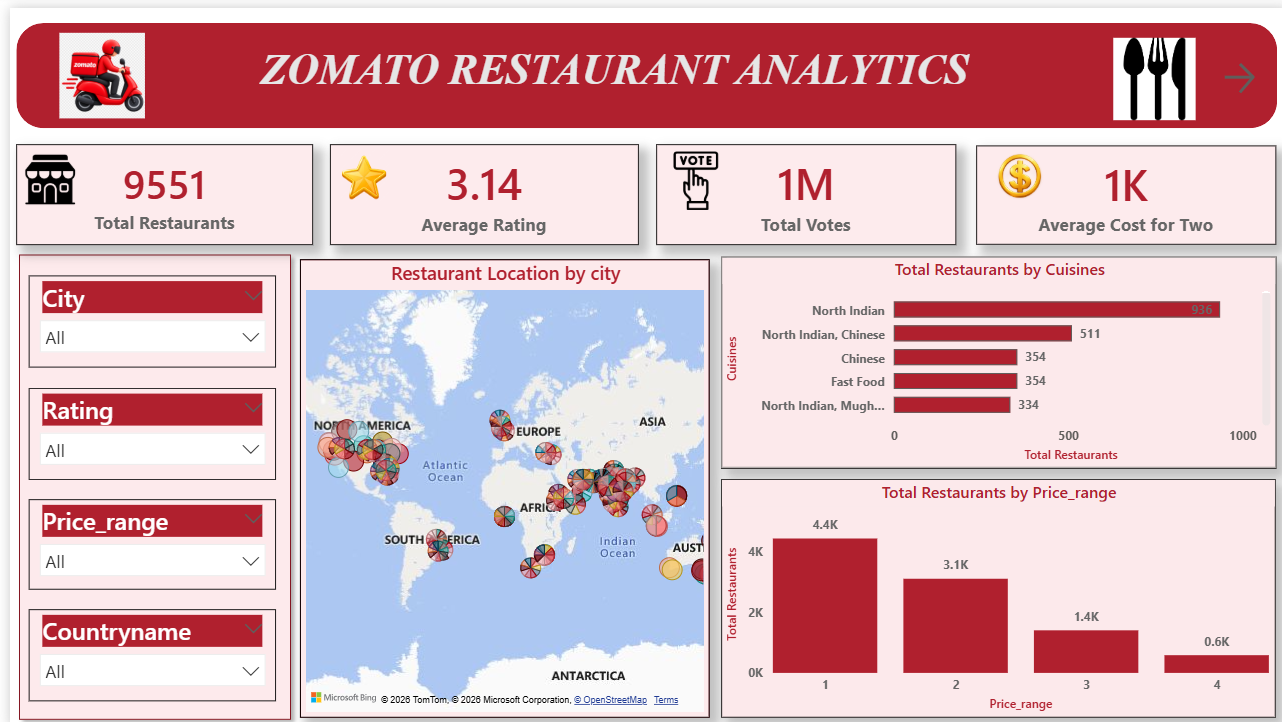

This screenshot's page, from the dashboard's own definition file:
{"tool":"powerbi","page":{"name":"Executive Overview","canvas":[1280,720],"ordinal":0},"visuals":[{"type":"shape","box":[0,238.1,290,483.3],"z":0},{"type":"shape","box":[5.8,14.4,1261,105.3],"z":1000},{"type":"card","title":"Total Restaurants","fields":{"Values":["Sheet1.Total Restaurants"]},"box":[5.8,136.9,297,100.5],"z":2000},{"type":"card","title":"Avg Rating","fields":{"Values":["Sheet1.Average Rating (Rated Only)"]},"box":[320.3,136.9,308.6,100.5],"z":3000},{"type":"card","title":"Total Votes","fields":{"Values":["Sheet1.Total Votes"]},"box":[646.4,136.9,299.9,100.5],"z":4000},{"type":"slicer","fields":{"Values":["Sheet1.City"]},"box":[18.9,267.9,247.5,91.7],"z":5000},{"type":"card","title":"Avg cost","fields":{"Values":["Sheet1.Average Cost for Two"]},"box":[966.7,137.1,300.1,99.6],"z":6000},{"type":"slicer","fields":{"Values":["Sheet1.Price_range"]},"box":[18.9,491.1,247.5,90.3],"z":7000},{"type":"slicer","fields":{"Values":["Sheet1.Rating"]},"box":[18.9,379.5,247.5,91.7],"z":8000},{"type":"slicer","fields":{"Values":["Sheet2.Countryname"]},"box":[18.9,601.3,247.5,91.7],"z":9000},{"type":"textbox","box":[92.3,21.6,1024.4,98.1],"z":10000},{"type":"shape","box":[290,251,409.7,458.8],"z":11000},{"type":"map","title":"Restaurant Location by city","fields":{"Category":["Sheet1.City"],"X":["Avg(Sheet1.Longitude)"],"Y":["Avg(Sheet1.Latitude)"],"Series":["Sheet1.Rating"]},"box":[290,251,409.7,458.8],"z":12000},{"type":"clusteredBarChart","fields":{"Y":["Sheet1.Total Restaurants"],"Category":["Sheet1.Cuisines"]},"box":[711.3,248.2,555.5,212.1],"z":13000},{"type":"clusteredColumnChart","fields":{"Y":["Sheet1.Total Restaurants"],"Category":["Sheet1.Price_range"]},"box":[711.3,471.8,554,238.1],"z":14000},{"type":"image","box":[5.8,137.1,67.8,67.8],"z":15000},{"type":"image","box":[320.3,132.7,67.8,72.1],"z":16000},{"type":"image","box":[646.4,138.5,79.4,67.8],"z":17000},{"type":"image","box":[976.7,138.5,67.8,60.6],"z":18000},{"type":"image","box":[43.3,20.2,96.7,95.2],"z":19000},{"type":"actionButton","box":[1209,50.5,44.7,40.4],"z":20000},{"type":"image","box":[1090.7,24.5,106.8,92.3],"z":21000}]}

Visuals, with their boxes in screenshot pixels (x1, y1, x2, y2), scaled from the page's 1280x720 canvas onto the 1282x722 screenshot:
shape: [0,239,290,721]
shape: [6,14,1269,120]
"Total Restaurants" card: [6,137,303,238]
"Avg Rating" card: [321,137,630,238]
"Total Votes" card: [647,137,948,238]
slicer - Sheet1.City: [19,269,267,361]
"Avg cost" card: [968,137,1269,237]
slicer - Sheet1.Price_range: [19,492,267,583]
slicer - Sheet1.Rating: [19,381,267,473]
slicer - Sheet2.Countryname: [19,603,267,695]
textbox: [92,22,1118,120]
shape: [290,252,701,712]
"Restaurant Location by city" map: [290,252,701,712]
clusteredBarChart - Sheet1.Total Restaurants x Sheet1.Cuisines: [712,249,1269,462]
clusteredColumnChart - Sheet1.Total Restaurants x Sheet1.Price_range: [712,473,1267,712]
image: [6,137,74,205]
image: [321,133,389,205]
image: [647,139,727,207]
image: [978,139,1046,200]
image: [43,20,140,116]
actionButton: [1211,51,1256,91]
image: [1092,25,1199,117]
